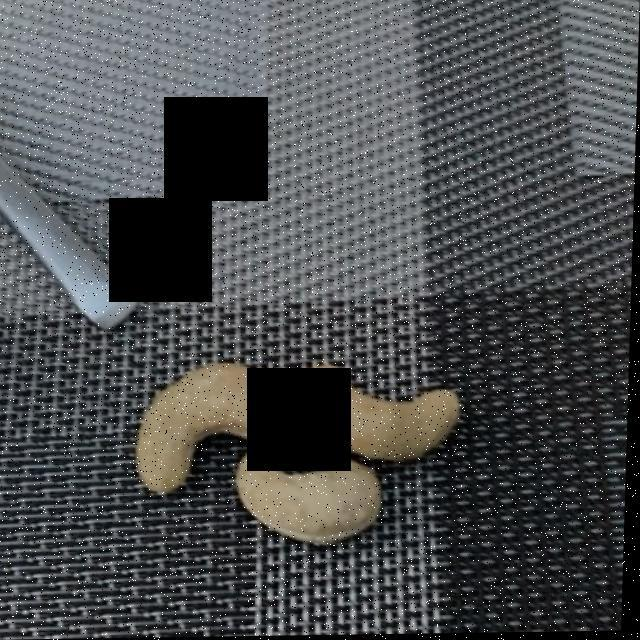cashew-nut: (138, 364, 459, 542)
